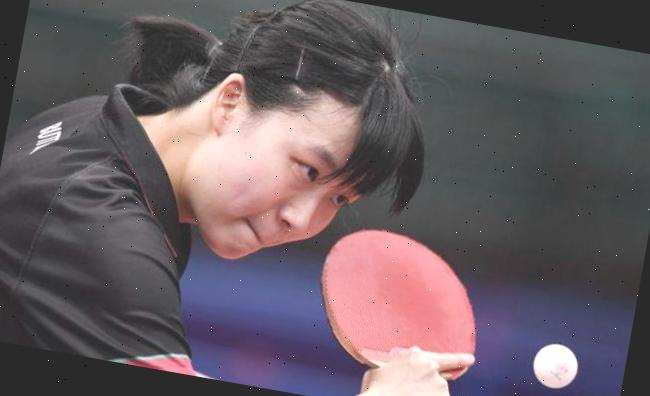ball: (524, 335, 586, 396)
